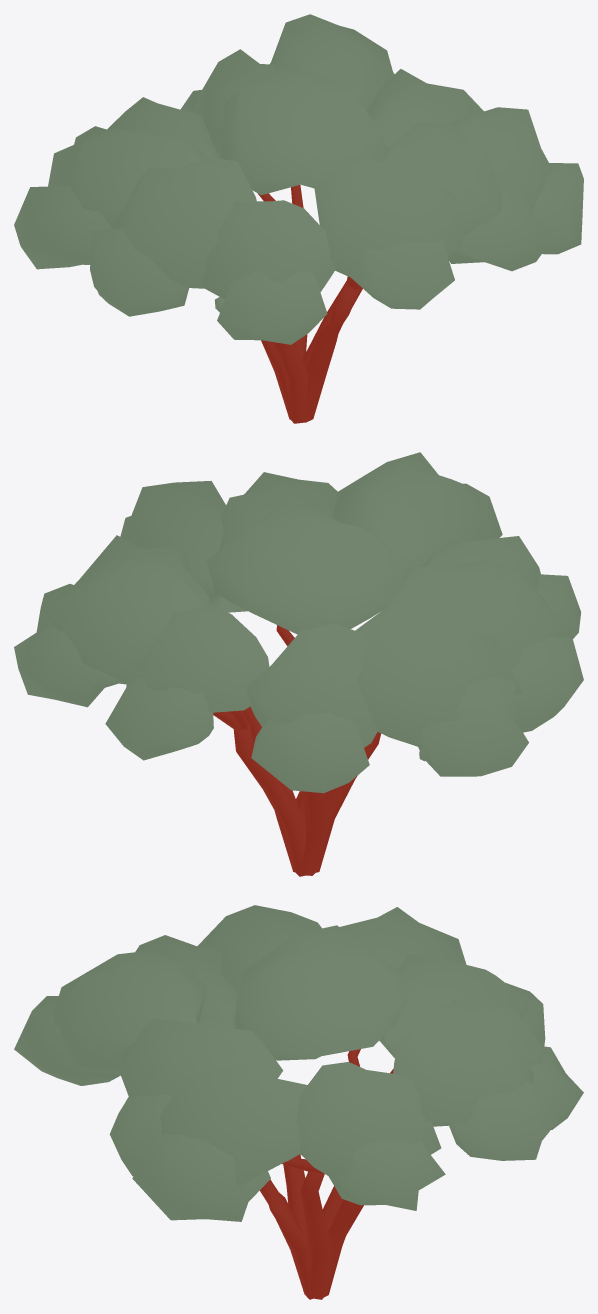
File: Blender_Manzanita_1.glb
3 views of the same model, one above another, from view 1: azimuth 30°, elevation 25°; view 2: azimuth 150°, elevation 25°; view 3: azimuth 270°, elevation 25° (orthographic). The views are drawn at different scales.
Parts seen in each view (by area): view 1: Blender_Manzanita_1; view 2: Blender_Manzanita_1; view 3: Blender_Manzanita_1.
Part boxes in pixels (bbox=[...]): Blender_Manzanita_1: bbox=[14, 14, 583, 423]; Blender_Manzanita_1: bbox=[14, 452, 583, 876]; Blender_Manzanita_1: bbox=[14, 905, 583, 1299].
Size of the model in its own units: 4 by 2.74 by 4.07.
